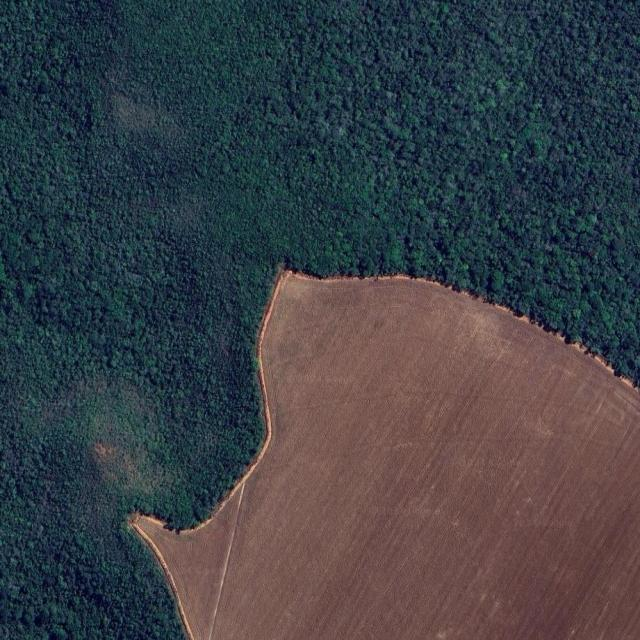noVegetation: (131, 273, 640, 638)
vegetation: (0, 1, 640, 638)
